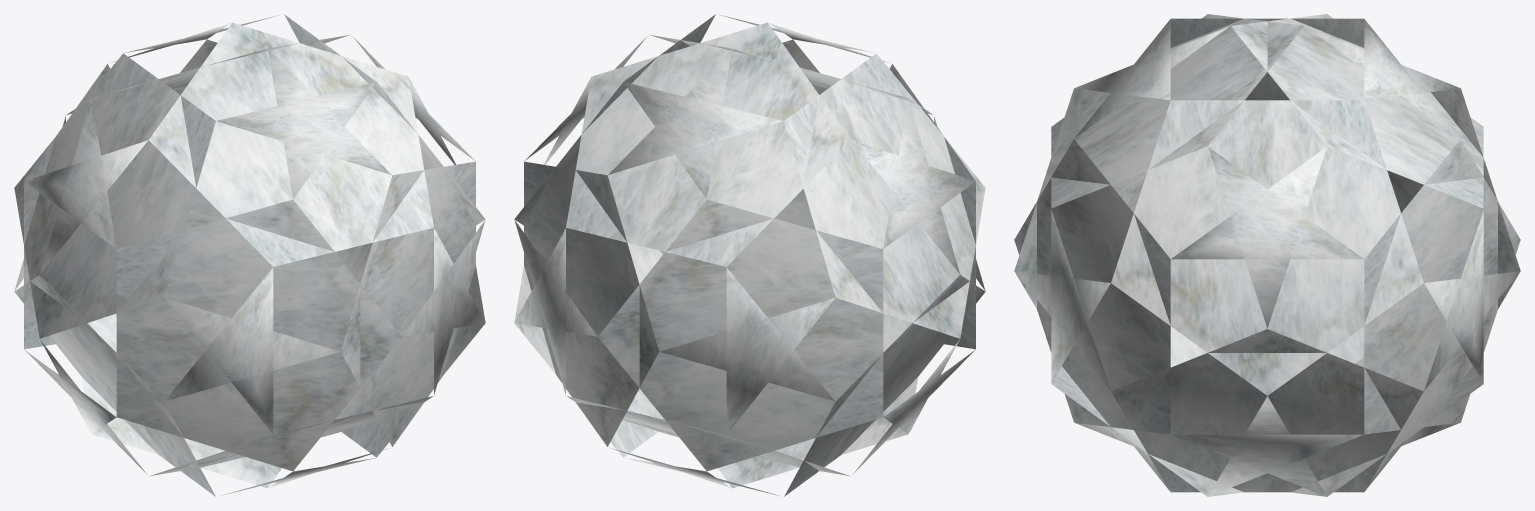
File: IcosidodecadodecahedronA.gltf
The picture shows the model from 3 angles, left to right: view 1: azimuth 30°, elevation 25°; view 2: azimuth 150°, elevation 25°; view 3: azimuth 270°, elevation 25°; orthographic projection. The views are drawn at different scales.
Visible parts, largest first — view 1: Icosidodecadodecahedron; view 2: Icosidodecadodecahedron; view 3: Icosidodecadodecahedron.
Part boxes in pixels (bbox=[...]): Icosidodecadodecahedron: bbox=[14, 14, 485, 496]; Icosidodecadodecahedron: bbox=[514, 14, 985, 496]; Icosidodecadodecahedron: bbox=[1014, 14, 1520, 496].
Size of the model in its own units: 2.62 by 2.62 by 2.62.
1 material, 1 textured.
